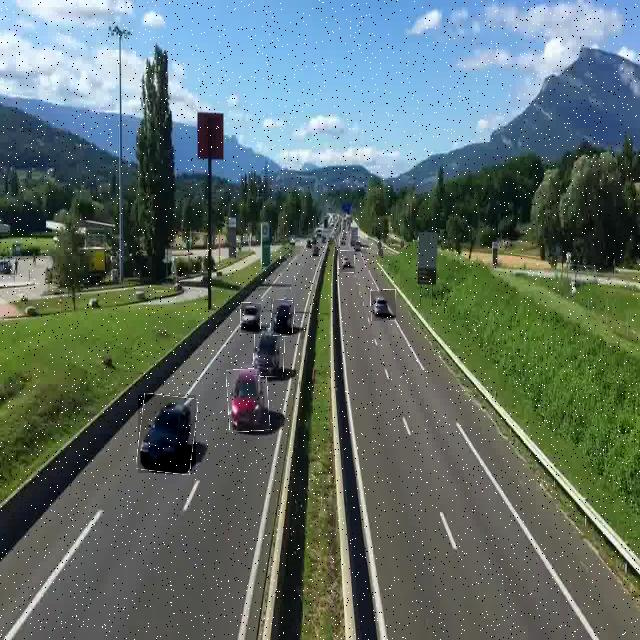Car: (138, 395, 196, 473), (227, 369, 269, 432), (253, 329, 285, 377), (271, 299, 294, 337), (371, 290, 396, 321), (241, 303, 261, 334), (339, 251, 355, 273)
